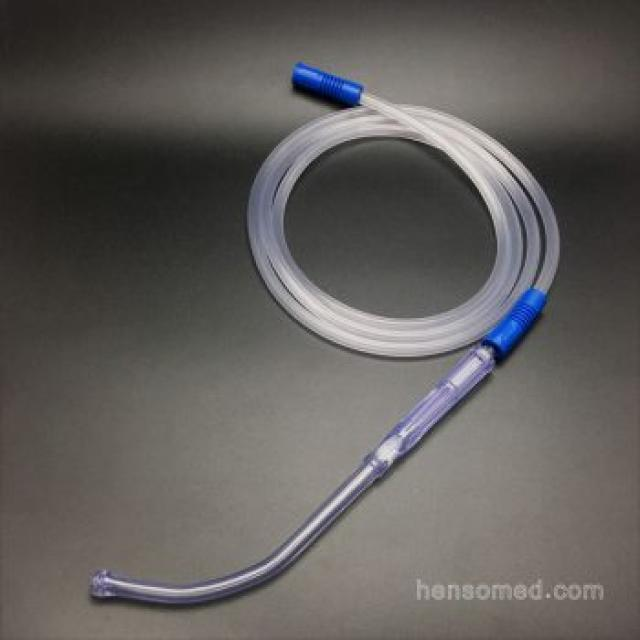Suction Tube Nozzle: (71, 34, 564, 617)
